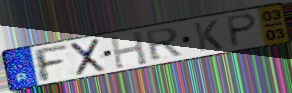F: (30, 44, 71, 84)
H: (108, 29, 150, 70)
K: (192, 18, 225, 53)
P: (227, 12, 260, 49)
R: (143, 26, 185, 63)
X: (69, 36, 107, 78)
